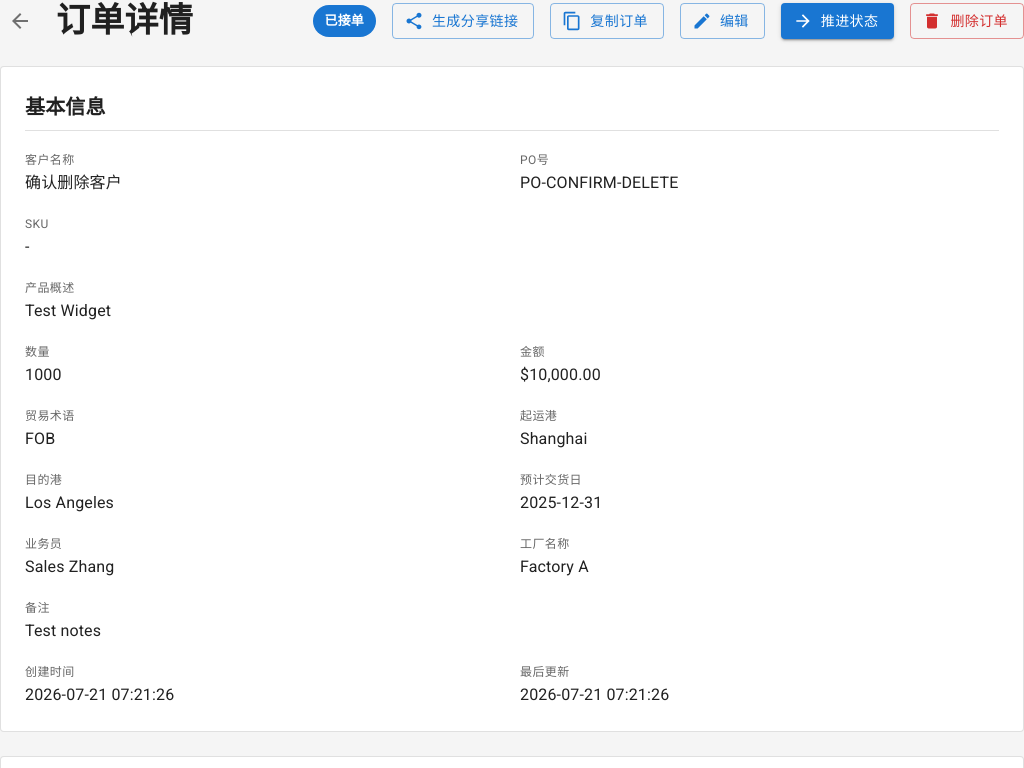
Test: OrderDetail — 删除确认 Dialog › 确认 Dialog 包含"将永久删除订单"提示文案
Click the button "删除订单" at (967, 21), box x1=910 y1=3 x2=1023 y2=39
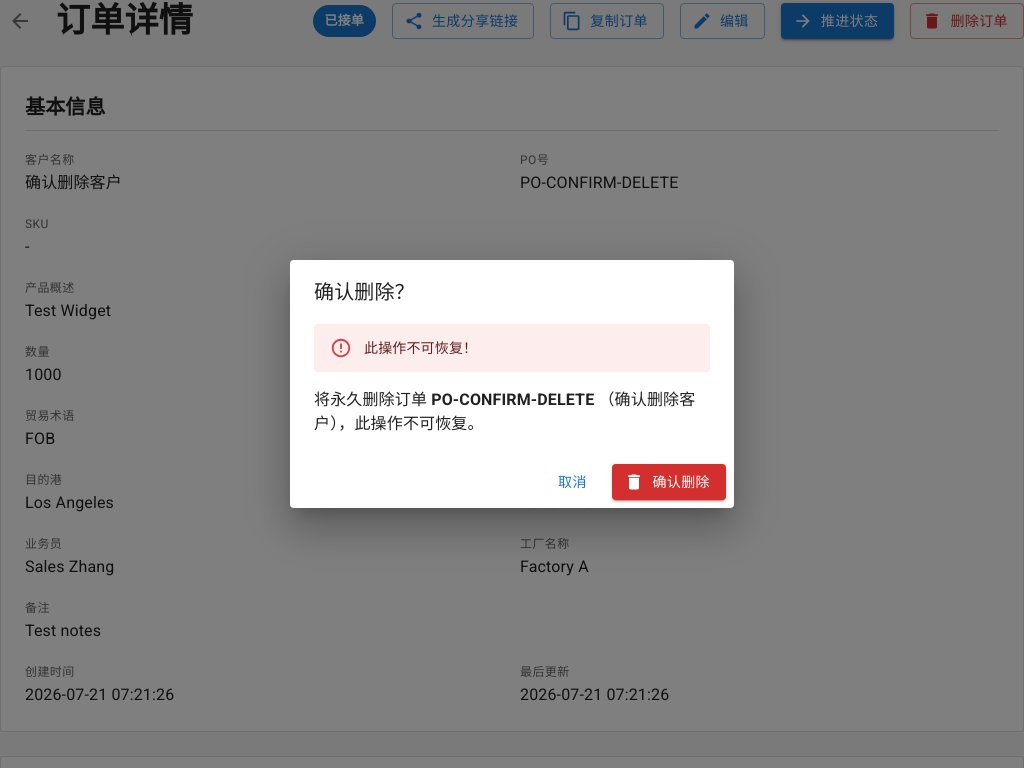
Result: the dialog is shown at x1=290 y1=260 x2=734 y2=508
Result: the dialog shows "将永久删除订单" at x1=314 y1=390 x2=427 y2=409
Result: the dialog shows "此操作不可恢复" at x1=364 y1=340 x2=477 y2=356
